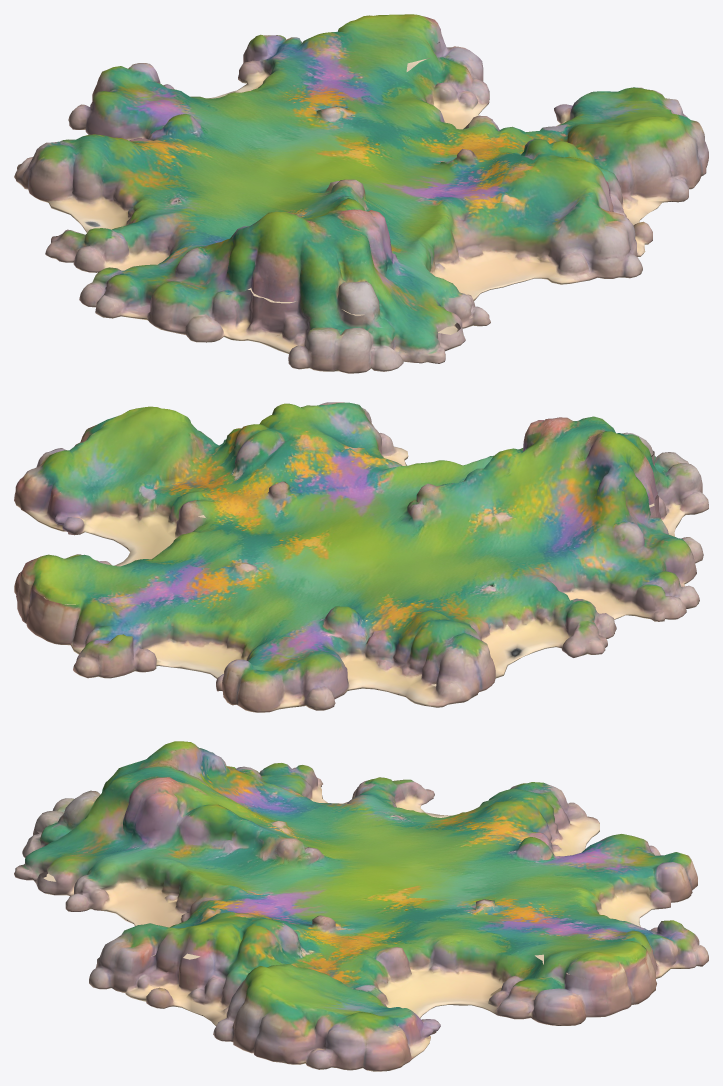
File: island-web.glb
3 views of the same model, one above another, from view 1: azimuth 30°, elevation 25°; view 2: azimuth 150°, elevation 25°; view 3: azimuth 270°, elevation 25° (orthographic). The views are drawn at different scales.
Parts seen in each view (by area): view 1: tripo_node_227bcda9-7ed2-444f-8aeb-396f366a8c75; view 2: tripo_node_227bcda9-7ed2-444f-8aeb-396f366a8c75; view 3: tripo_node_227bcda9-7ed2-444f-8aeb-396f366a8c75.
Boxes of the visible parts, x1=… form: tripo_node_227bcda9-7ed2-444f-8aeb-396f366a8c75: x1=14, y1=14, x2=708, y2=373; tripo_node_227bcda9-7ed2-444f-8aeb-396f366a8c75: x1=14, y1=402, x2=708, y2=712; tripo_node_227bcda9-7ed2-444f-8aeb-396f366a8c75: x1=14, y1=741, x2=708, y2=1071.
Bounding box in the file's own units: 0.998 × 0.1605 × 0.998.
1 material, 1 textured.
